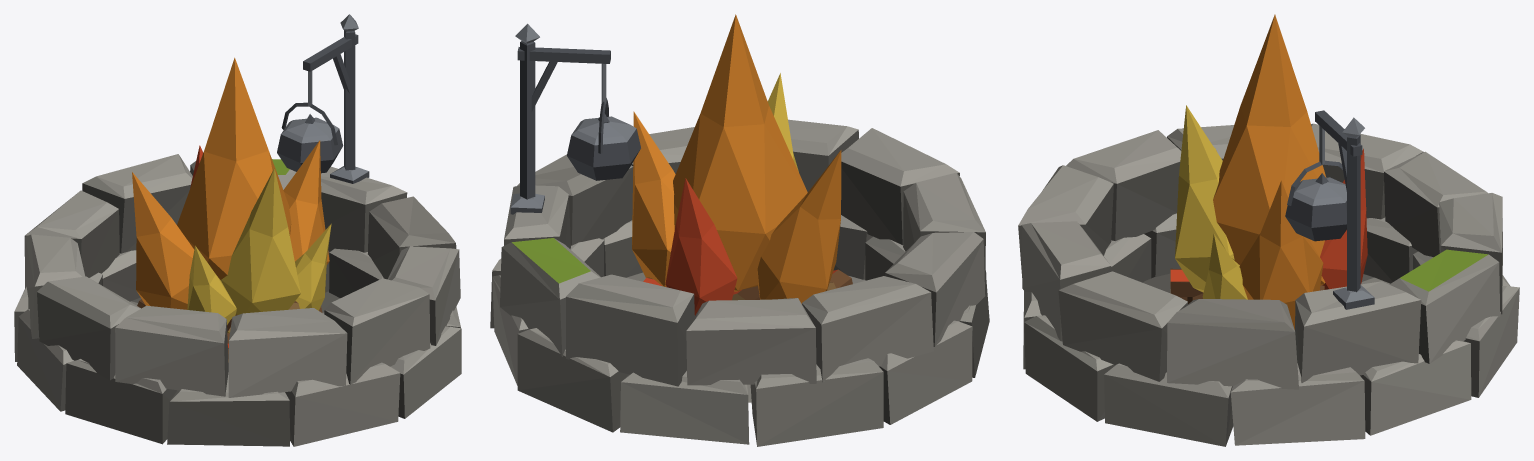
File: campfire_hearth.glb
3 renders of one model, left to right at view 1: azimuth 30°, elevation 25°; view 2: azimuth 150°, elevation 25°; view 3: azimuth 270°, elevation 25°, orthographic. The views are drawn at different scales.
Parts seen in each view (by area): view 1: campfire_hearth, flame; view 2: campfire_hearth, flame; view 3: campfire_hearth, flame.
Boxes of the visible parts, x1,y1,x2,y2 form: campfire_hearth: [14, 14, 461, 446]; flame: [132, 57, 331, 332]; campfire_hearth: [490, 23, 989, 446]; flame: [632, 14, 841, 315]; campfire_hearth: [1018, 110, 1519, 446]; flame: [1175, 14, 1367, 329].
Bounding box in the file's own units: 1.57 × 1.14 × 1.58.
